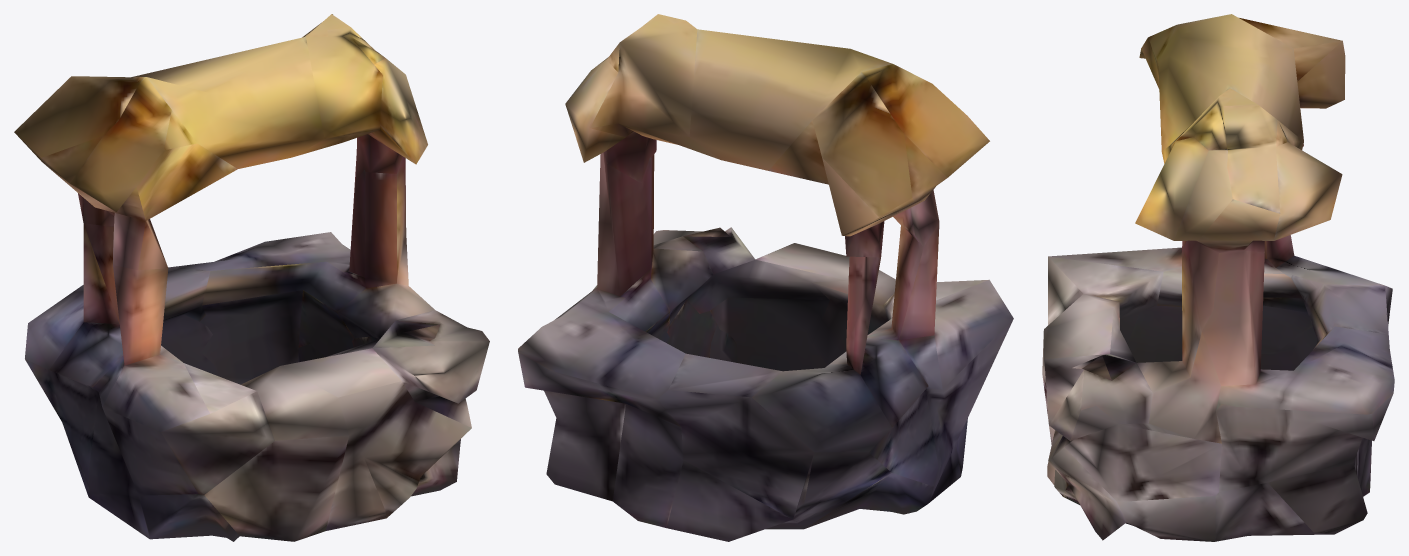
File: well.glb
The picture shows the model from 3 angles, left to right: view 1: azimuth 30°, elevation 25°; view 2: azimuth 150°, elevation 25°; view 3: azimuth 270°, elevation 25°; orthographic projection. The views are drawn at different scales.
Parts seen in each view (by area): view 1: tripo_node_cae71788-cf17-43e1-9282-9862a46c4ecb; view 2: tripo_node_cae71788-cf17-43e1-9282-9862a46c4ecb; view 3: tripo_node_cae71788-cf17-43e1-9282-9862a46c4ecb.
Boxes of the visible parts, left/top/right/bottom form: tripo_node_cae71788-cf17-43e1-9282-9862a46c4ecb: left=14, top=14, right=489, bottom=541; tripo_node_cae71788-cf17-43e1-9282-9862a46c4ecb: left=518, top=14, right=1013, bottom=541; tripo_node_cae71788-cf17-43e1-9282-9862a46c4ecb: left=1042, top=14, right=1394, bottom=541.
Size of the model in its own units: 0.8193 by 0.9546 by 0.7351.
1 material, 1 textured.
